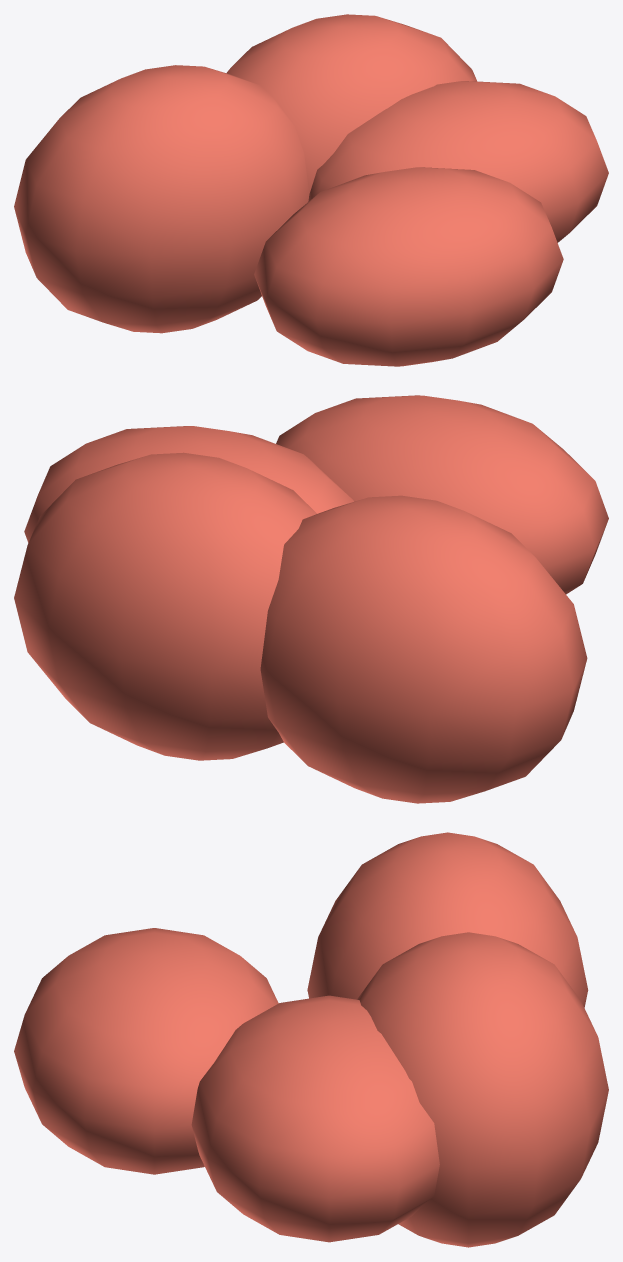
Rendered from payload_raw_pigment_a.obj.
3 views of the same model, one above another, from view 1: azimuth 30°, elevation 25°; view 2: azimuth 150°, elevation 25°; view 3: azimuth 270°, elevation 25° (orthographic). The views are drawn at different scales.
Parts seen in each view (by area): view 1: payload_piece.045, payload_piece.046, payload_piece.044, payload_piece.047; view 2: payload_piece.045, payload_piece.047, payload_piece.046, payload_piece.044; view 3: payload_piece.047, payload_piece.044, payload_piece.046, payload_piece.045.
Part boxes in pixels (box(x1,y1,x2,y2)): payload_piece.045: box(14, 65, 309, 333); payload_piece.046: box(254, 167, 563, 366); payload_piece.044: box(308, 81, 608, 242); payload_piece.047: box(226, 14, 477, 193); payload_piece.045: box(260, 495, 587, 803); payload_piece.047: box(14, 452, 316, 760); payload_piece.046: box(276, 395, 608, 594); payload_piece.044: box(24, 426, 353, 542); payload_piece.047: box(357, 932, 608, 1247); payload_piece.044: box(191, 995, 439, 1242); payload_piece.046: box(14, 928, 278, 1174); payload_piece.045: box(307, 832, 588, 1007).
Size of the model in its own units: 0.5806 by 0.26 by 0.5085.
